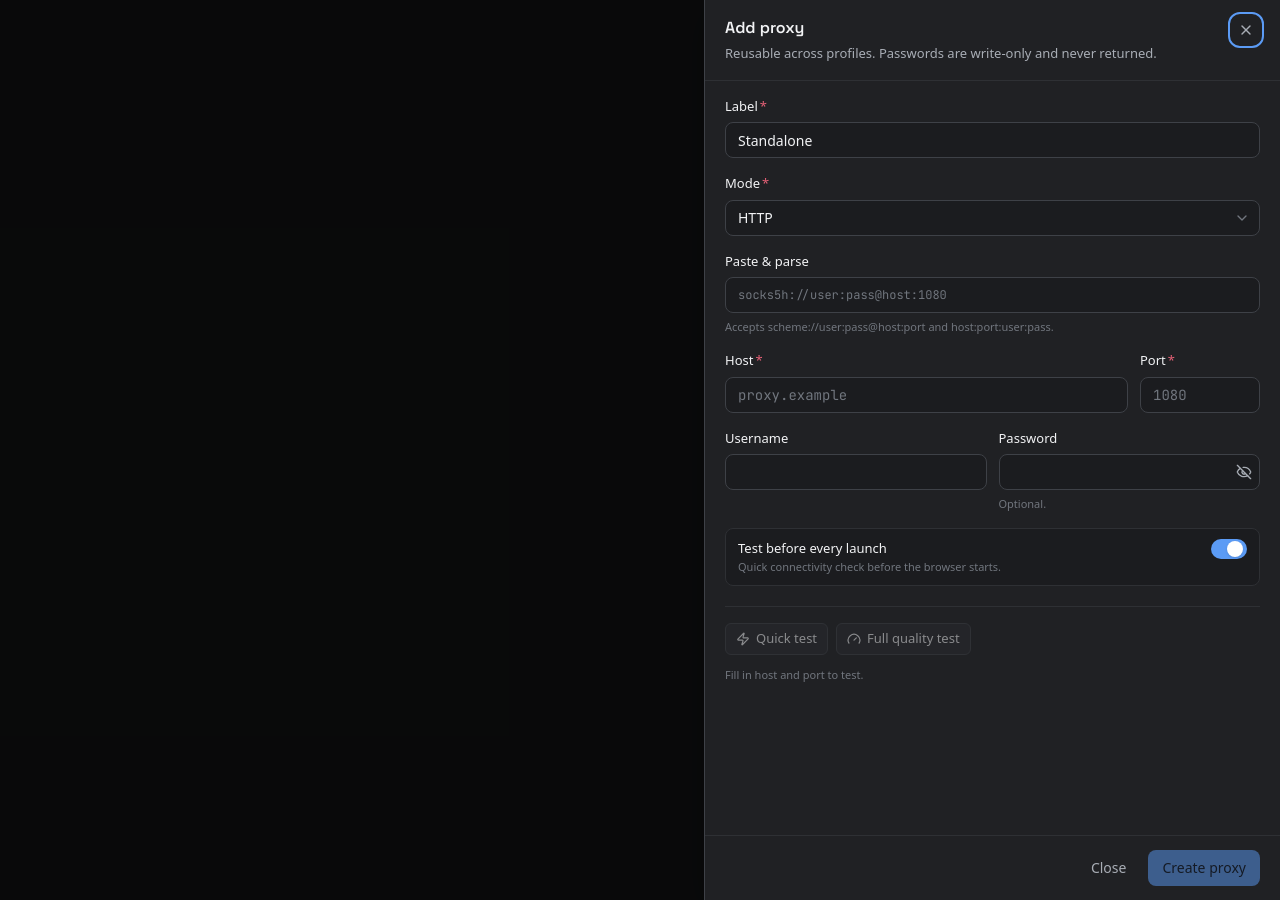
Test case: ProxyEditorDrawer defaultLabel › switches the standalone catalog title to edit after creation
Type "socks5://user:pass@198.51.100.9:1080" into the field with placeholder "socks5h://user:pass@host:1080" at (992, 295), box top-left (725, 277), bottom-right (1260, 313)
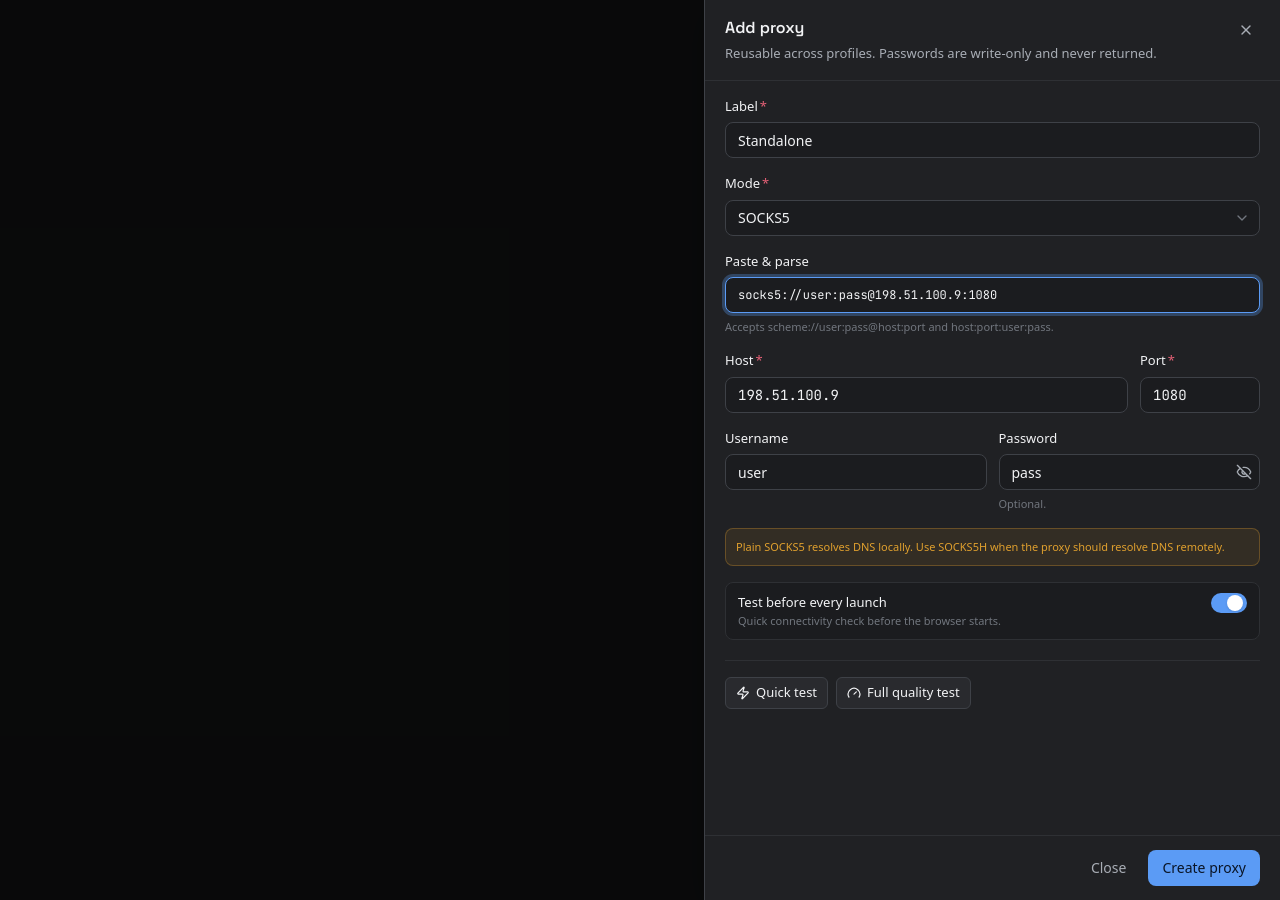
Click the button "Create proxy" at (1204, 868), box top-left (1148, 850), bottom-right (1260, 886)
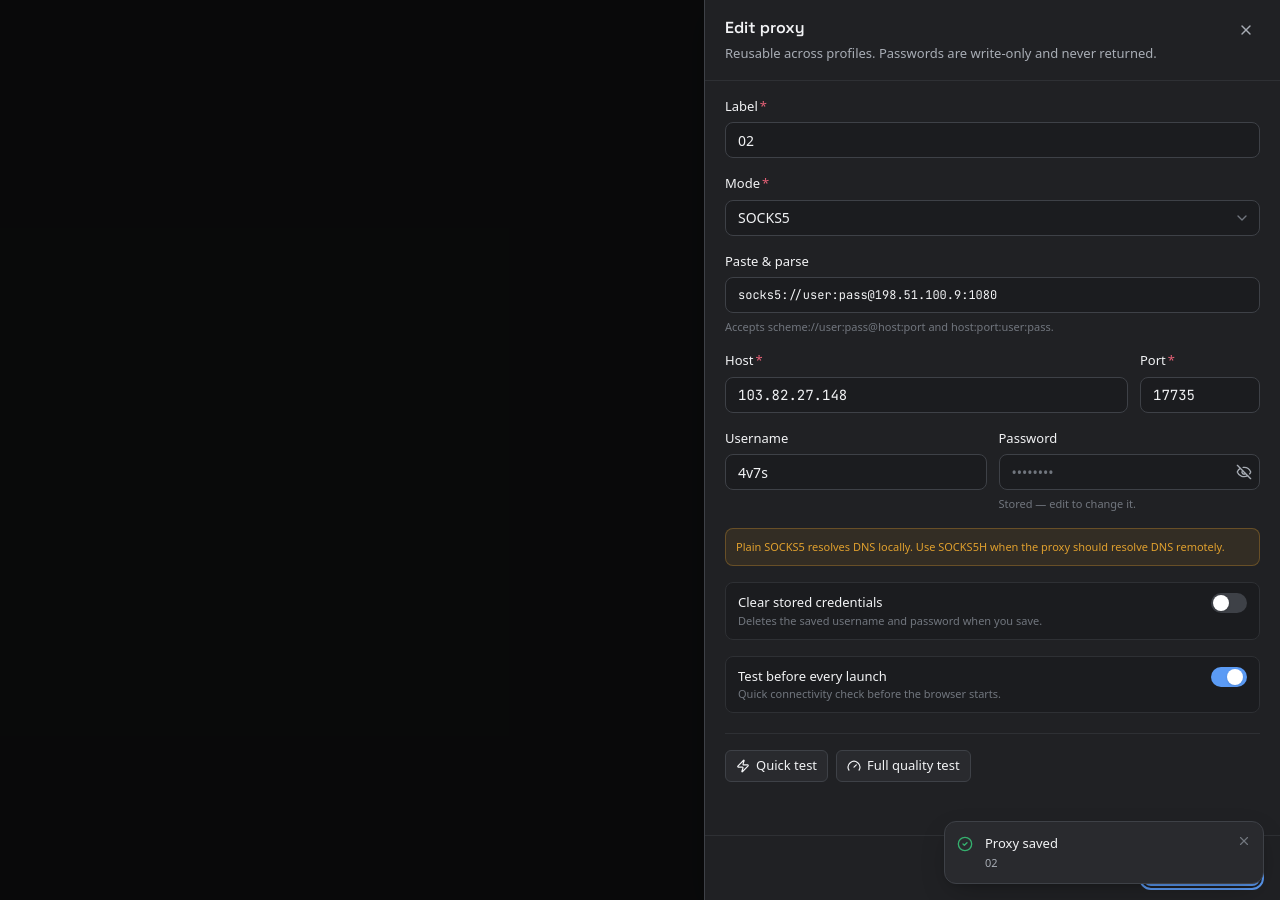
Expected: the dialog "Edit proxy" is shown, top-left (704, 0), bottom-right (1279, 899)
